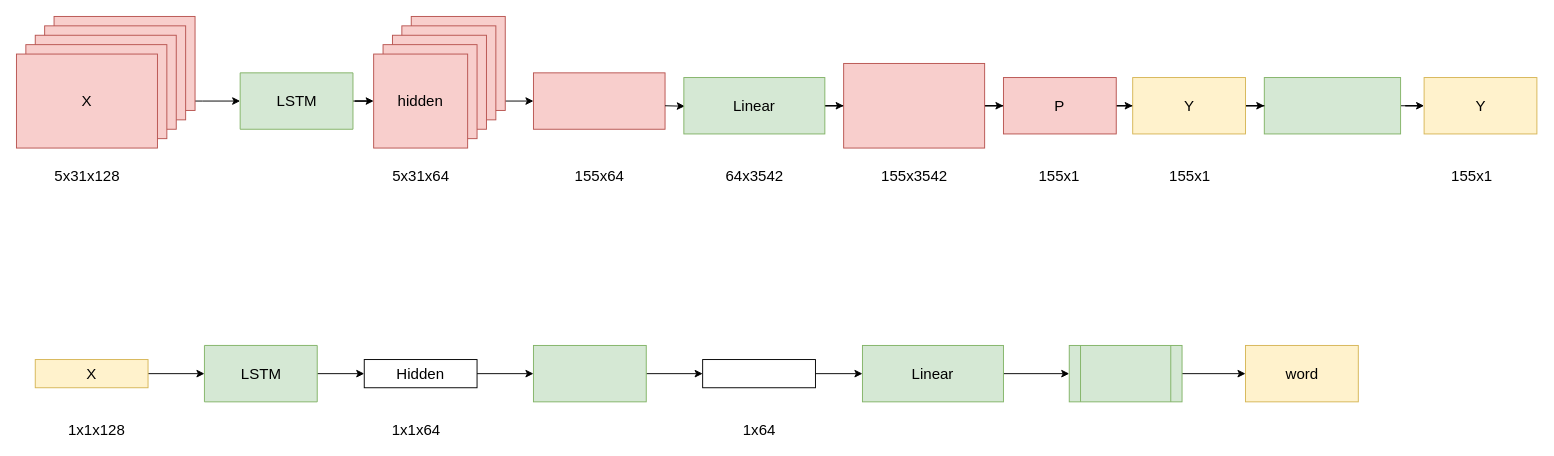
The diagram is 1554 pixels wide and 456 high, and some of its shapes have lost their labels. Each missing label, with the centre of its shape:
CrossEntropyLoss: point (1332, 105)
Flatten: point (589, 373)
hidden flatten: point (599, 100)
HiddenFlatten: point (758, 373)
index2word: point (1125, 373)
pre: point (914, 105)
